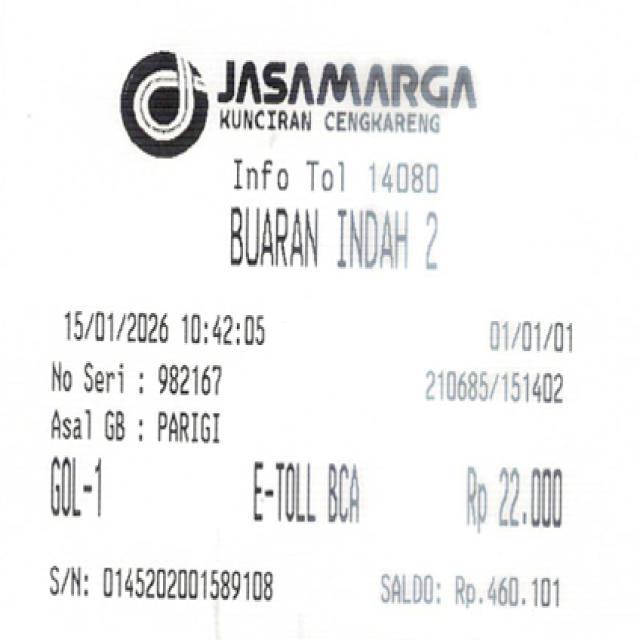date: (62, 300, 273, 348)
store: (218, 50, 482, 138)
total: (458, 457, 570, 538)
